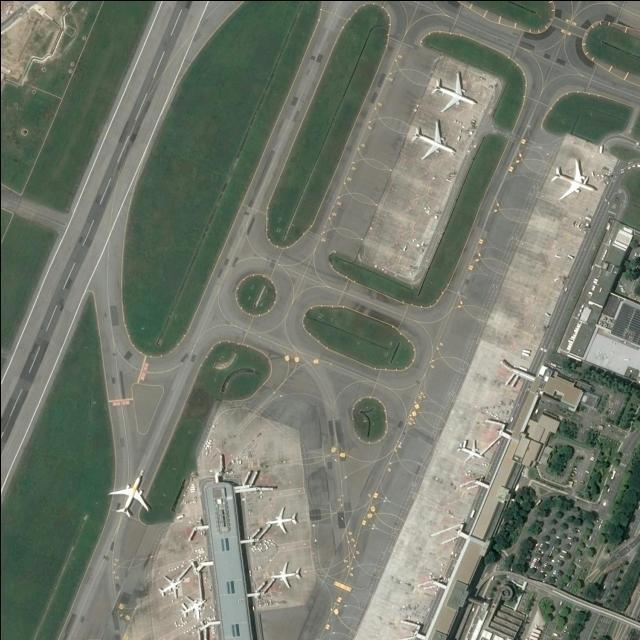Aircraft: (107, 471, 149, 519), (551, 160, 598, 201), (430, 72, 478, 112), (410, 121, 456, 160), (267, 507, 298, 534), (271, 564, 301, 588), (155, 575, 184, 598), (177, 596, 204, 620), (457, 440, 484, 462)
